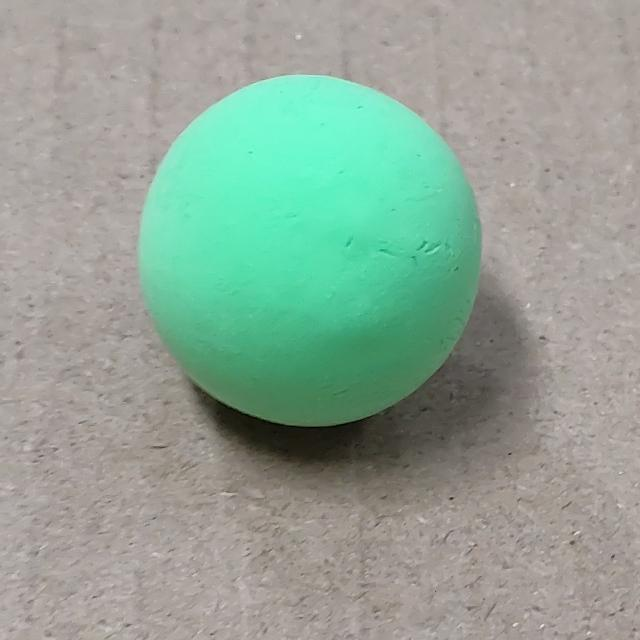bad: (137, 73, 479, 424)
